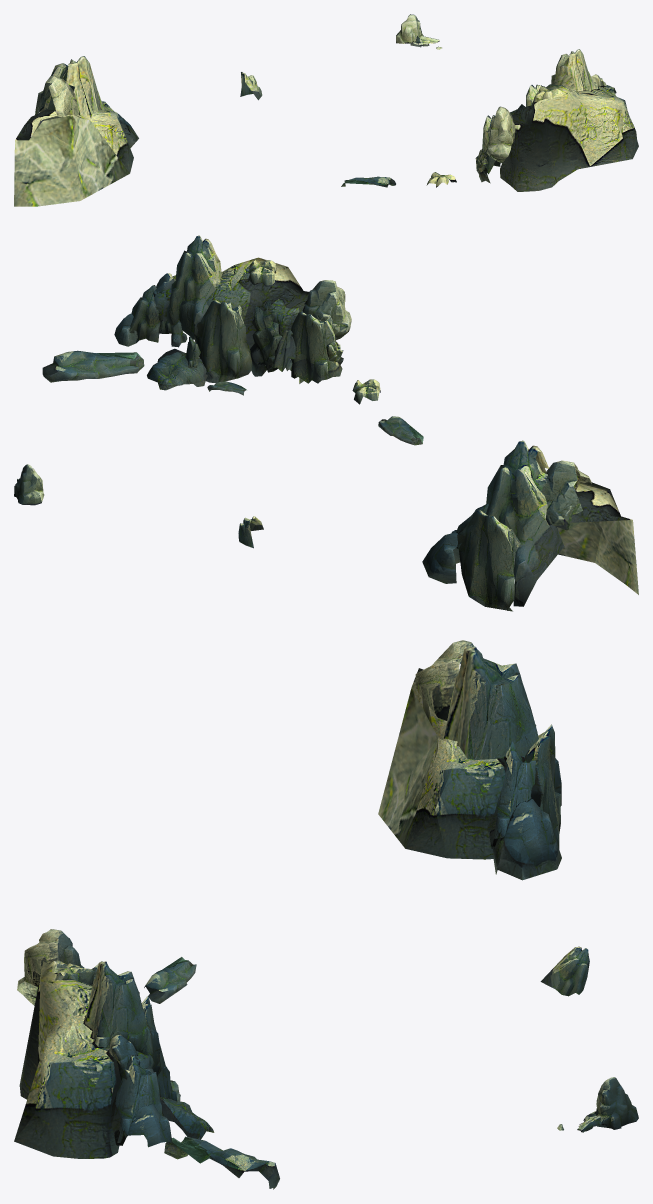
Rendered from Bf01g_hill_3v3.fbx.
The picture shows the model from 3 angles, top to bottom: view 1: azimuth 30°, elevation 25°; view 2: azimuth 150°, elevation 25°; view 3: azimuth 270°, elevation 25°; orthographic projection. The views are drawn at different scales.
Parts seen in each view (by area): view 1: Bf_hill_3v3; view 2: Bf_hill_3v3; view 3: Bf_hill_3v3.
Part boxes in pixels (x1=…): Bf_hill_3v3: x1=14, y1=14, x2=638, y2=206; Bf_hill_3v3: x1=14, y1=235, x2=638, y2=611; Bf_hill_3v3: x1=14, y1=640, x2=638, y2=1189.
Size of the model in its own units: 507 by 110 by 306.
Materials: 1 (1 with a texture image).
